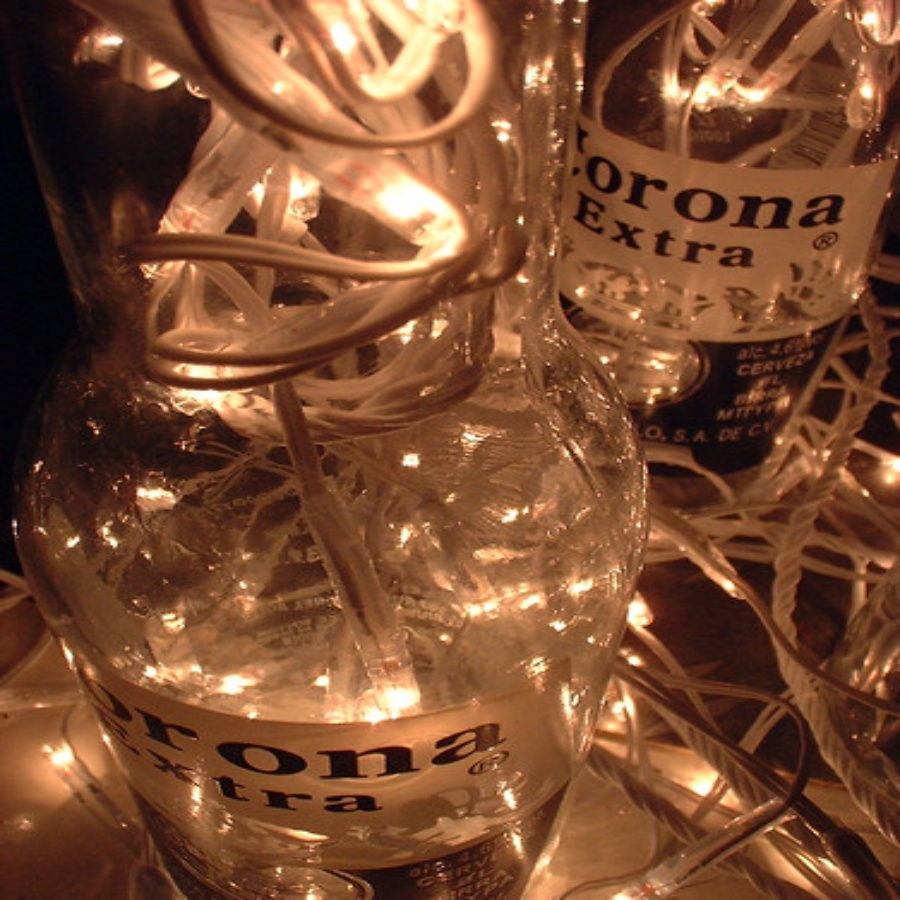beer: (43, 1, 617, 899)
